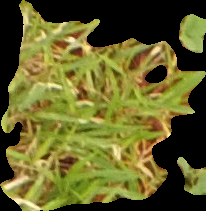grass: (1, 1, 205, 210)
